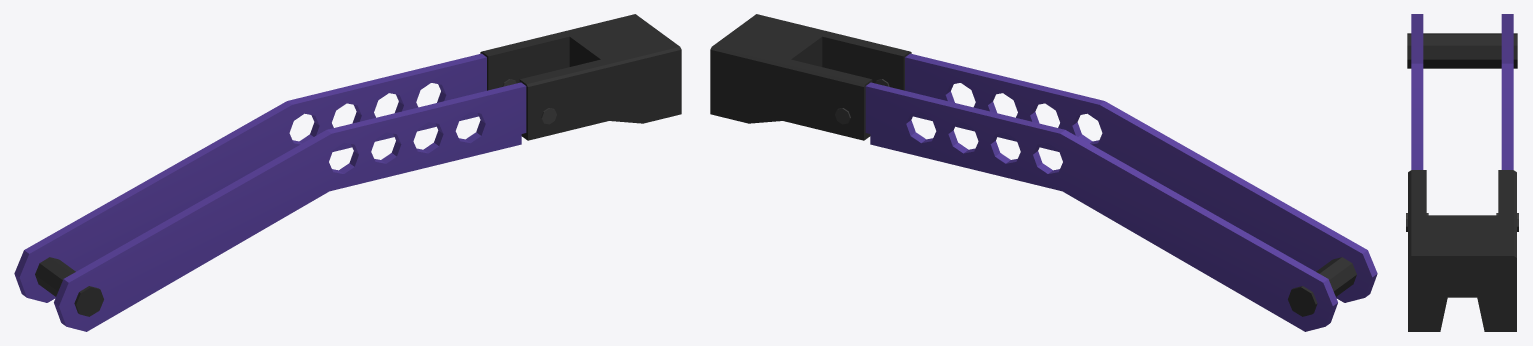
The model's file is Shotgun5_04_2.fbx.
The picture shows the model from 3 angles, left to right: view 1: azimuth 30°, elevation 25°; view 2: azimuth 150°, elevation 25°; view 3: azimuth 270°, elevation 25°; orthographic projection. The views are drawn at different scales.
Visible parts, largest first — view 1: Shotgun5_04_2; view 2: Shotgun5_04_2; view 3: Shotgun5_04_2.
Part boxes in pixels (left/top/right/bottom): Shotgun5_04_2: left=14, top=14, right=681, bottom=331; Shotgun5_04_2: left=710, top=14, right=1377, bottom=331; Shotgun5_04_2: left=1406, top=14, right=1518, bottom=331.
Size of the model in its own units: 0.4016 by 0.0868 by 0.0553.
